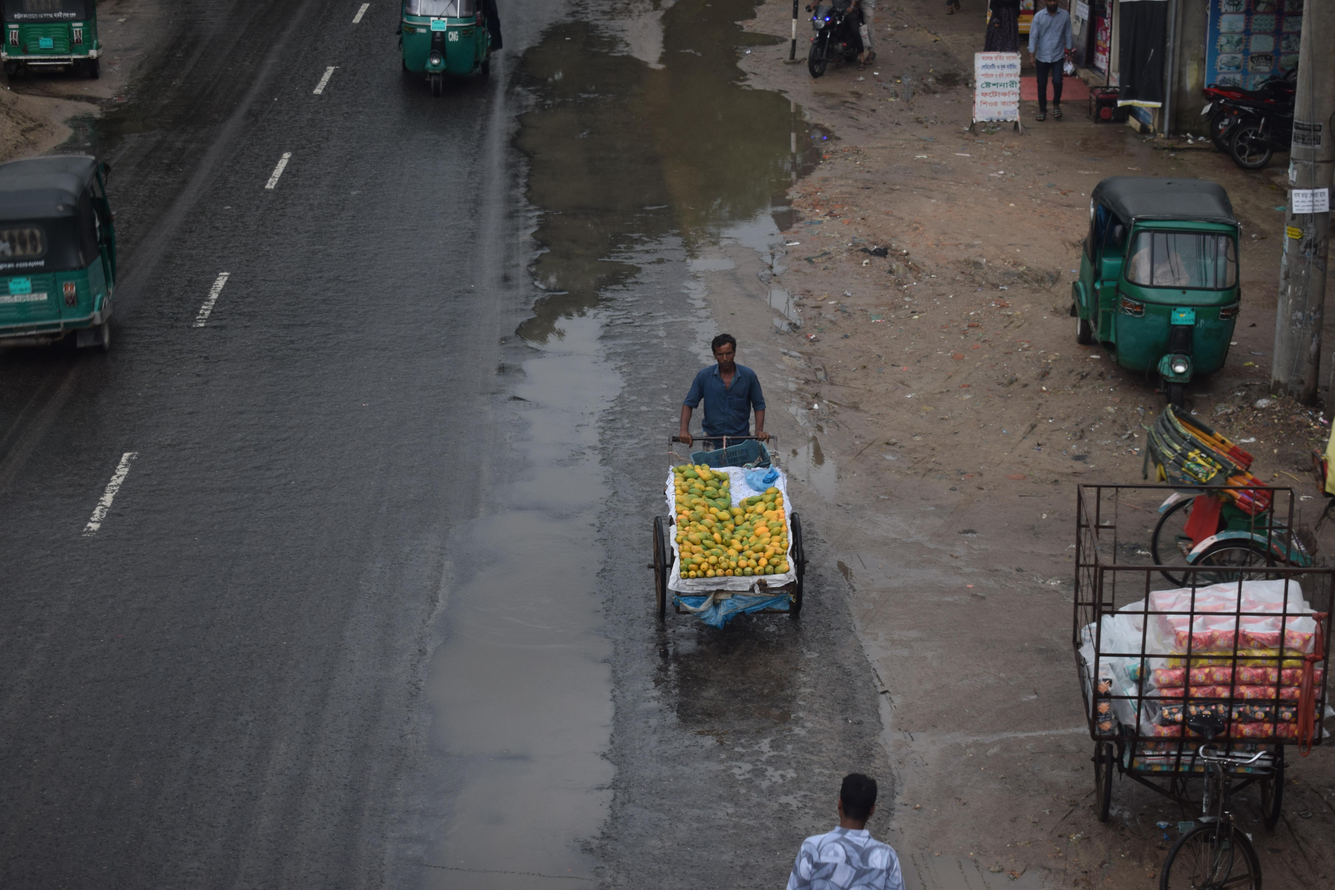Bike: (772, 0, 907, 108)
